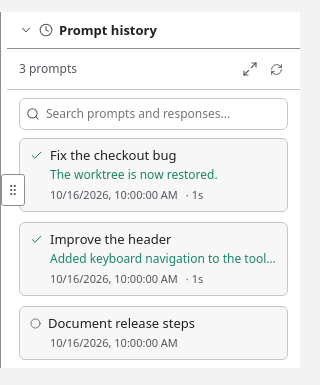
prompt history search › keeps the search active as live history updates arrive
Type "checkout" into the search field.
click(164, 114); type("checkout")  # box [46,103,281,125]
Wait 2000 ms
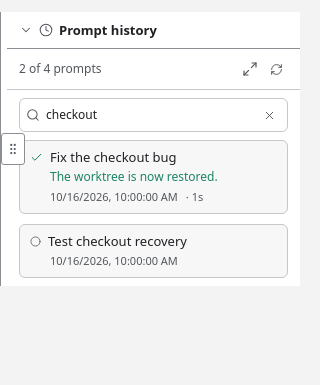
Result: the number of buttons titled "Open full prompt and response" is 2 at [19,140,288,214]; [19,224,288,278]
Result: the text "2 of 4 prompts" is shown at [19,61,102,77]
